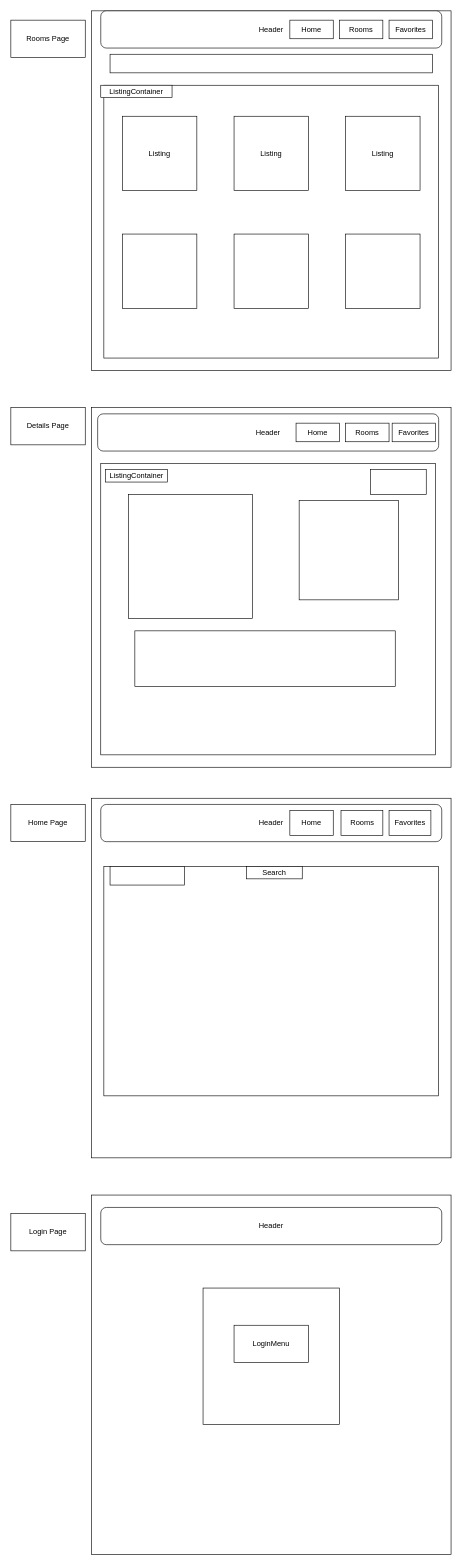
Image size: 462x1566. Some labels were removed from this diagram. The shapes that lost their labels are listed below. From the top down, each one's centre as x and y in pixels, then its label:
At pixel 270 63: "FilterSort".
At pixel 398 481: "Favorite".
At pixel 190 556: "Details".
At pixel 348 550: "Photo".
At pixel 264 658: "Comments".
At pixel 146 875: "ListingMap".
